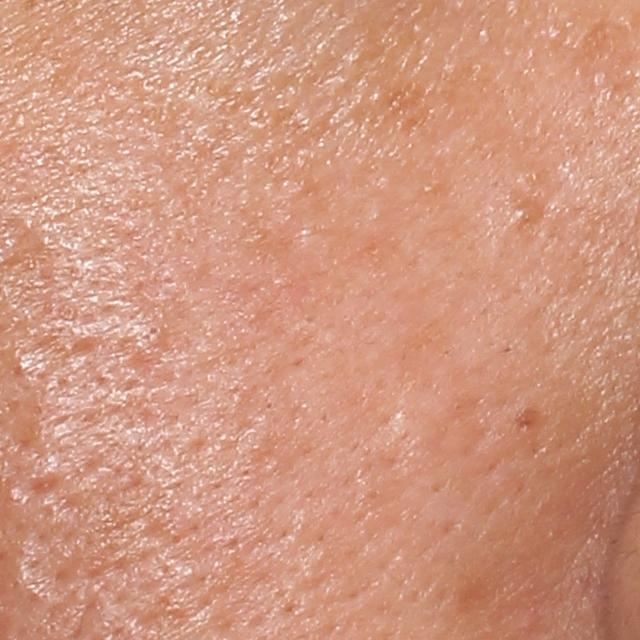atrophic_scar: (13, 508, 85, 602), (15, 470, 66, 505)
comedo: (508, 199, 543, 230), (146, 321, 167, 342)
